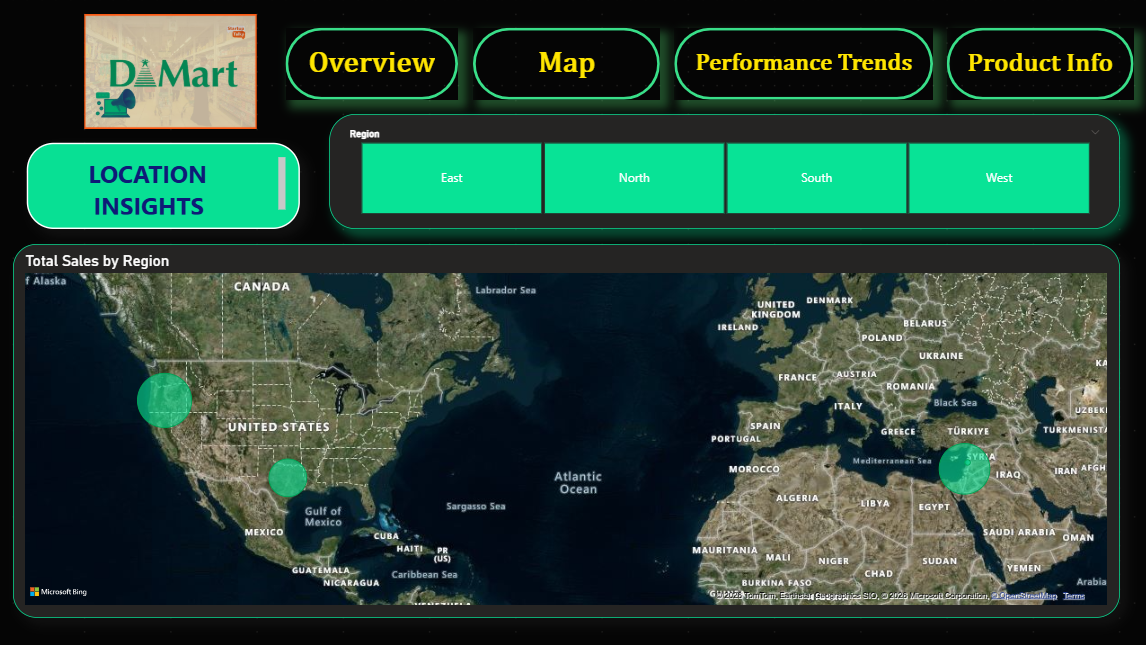

This screenshot's page, from the dashboard's own definition file:
{"tool":"powerbi","page":{"name":"Map","canvas":[1280,720],"ordinal":2},"visuals":[{"type":"slicer","fields":{"Values":["dmart_powerbi_dataset_50k.Region"]},"box":[368,128,880,128],"z":0},{"type":"map","fields":{"Category":["dmart_powerbi_dataset_50k.Region"],"Size":["dmart_powerbi_dataset_50k.Total Sales"]},"box":[16,272,1232,416],"z":1000},{"type":"actionButton","box":[528,32,208,80],"z":2000},{"type":"actionButton","box":[752,32,288,80],"z":3000},{"type":"actionButton","box":[1056,32,208,80],"z":4000},{"type":"actionButton","box":[320,32,192,80],"z":5000},{"type":"textbox","box":[32,160,304,96],"z":6000},{"type":"image","box":[32,16,320,128],"z":7000}]}

Visuals, with their boxes in screenshot pixels (x1, y1, x2, y2), scaled from the page's 1280x720 canvas onto the 1146x645 screenshot:
slicer - dmart_powerbi_dataset_50k.Region: (x1=329, y1=115, x2=1117, y2=229)
map - dmart_powerbi_dataset_50k.Region x dmart_powerbi_dataset_50k.Total Sales: (x1=14, y1=244, x2=1117, y2=616)
actionButton: (x1=473, y1=29, x2=659, y2=100)
actionButton: (x1=673, y1=29, x2=931, y2=100)
actionButton: (x1=945, y1=29, x2=1132, y2=100)
actionButton: (x1=286, y1=29, x2=458, y2=100)
textbox: (x1=29, y1=143, x2=301, y2=229)
image: (x1=29, y1=14, x2=315, y2=129)
